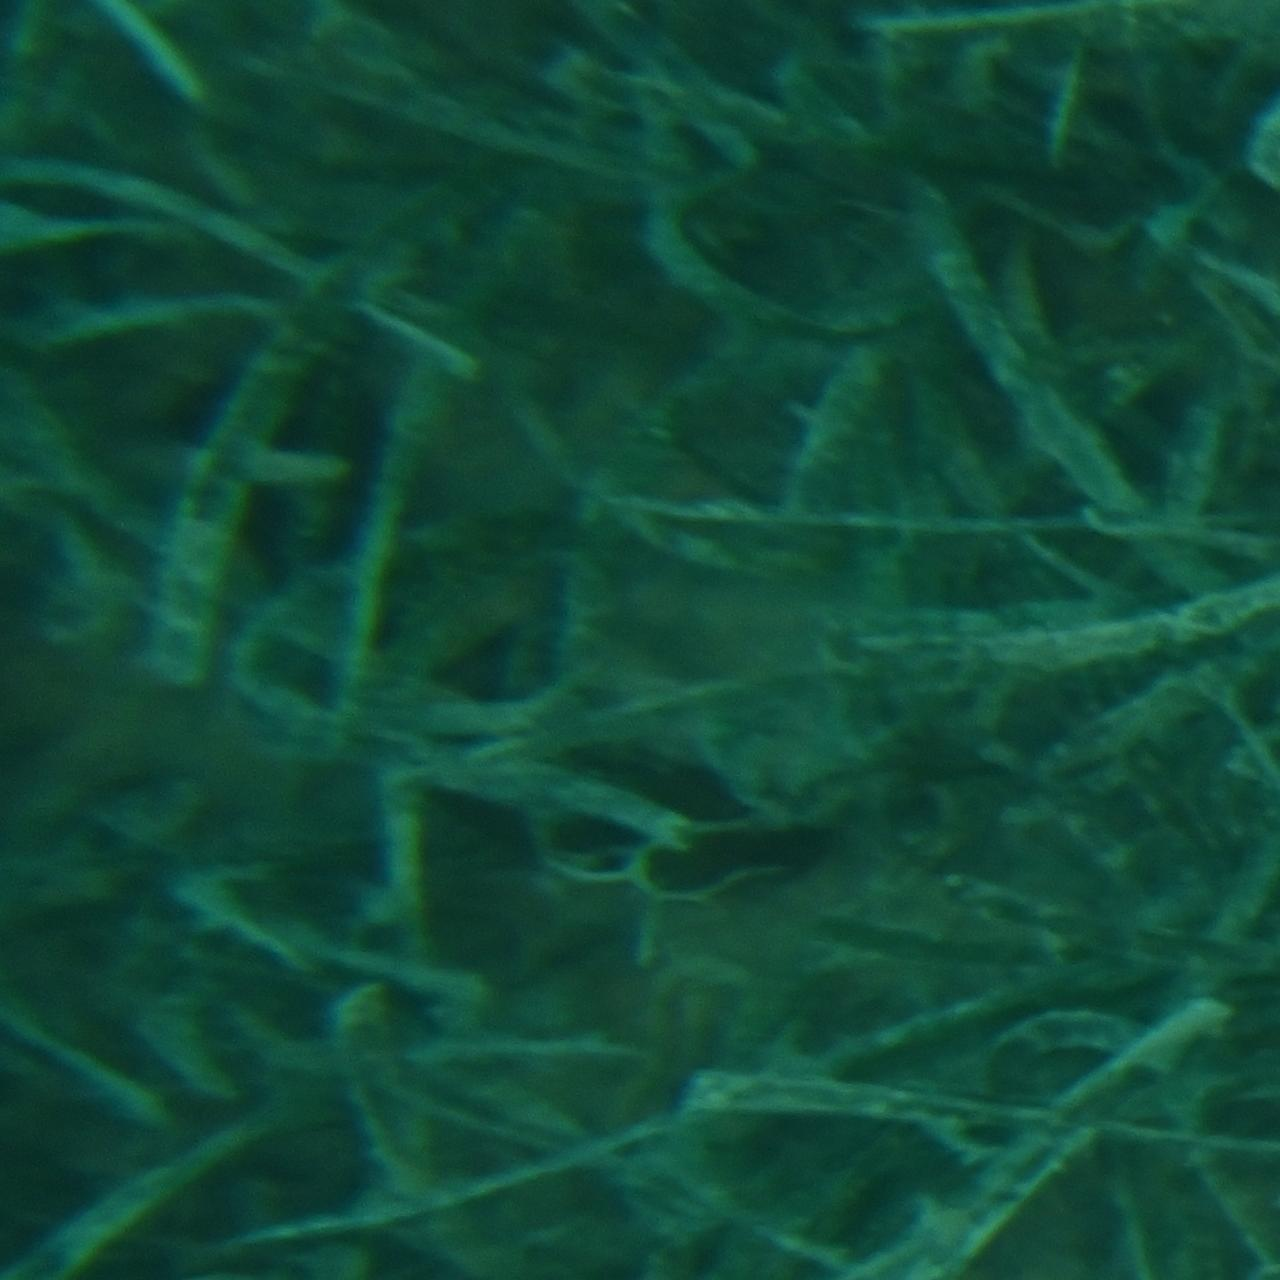Holothuria tubulosa: (182, 367, 847, 913)
